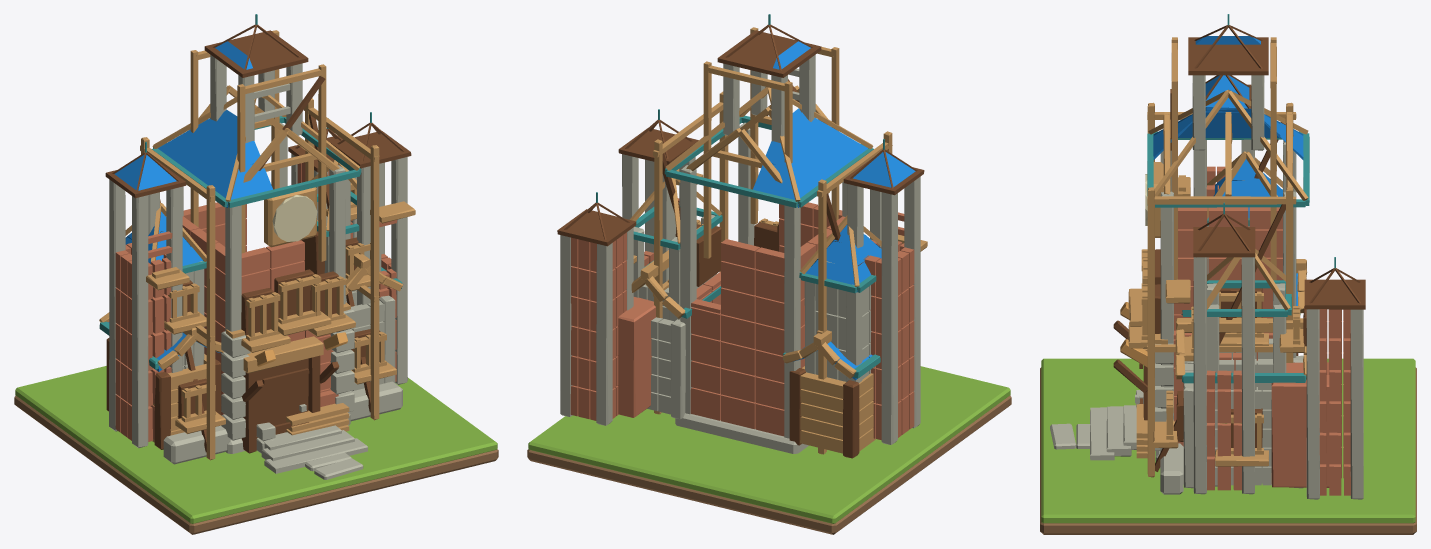
Rendered from town_hall_l12_construction_LOD1.glb.
3 renders of one model, left to right at view 1: azimuth 30°, elevation 25°; view 2: azimuth 150°, elevation 25°; view 3: azimuth 270°, elevation 25°, orthographic. The views are drawn at different scales.
Parts seen in each view (by area): view 1: town_hall_l12_construction_foundation.001, town_hall_l12_construction_grass_tile.001, town_hall_l12_construction_earth_tile.001, town_hall_l12_construction_path_stone.005; view 2: town_hall_l12_construction_foundation.001, town_hall_l12_construction_grass_tile.001, town_hall_l12_construction_earth_tile.001; view 3: town_hall_l12_construction_foundation.001, town_hall_l12_construction_grass_tile.001, town_hall_l12_construction_earth_tile.001, town_hall_l12_construction_path_stone.005.
Part boxes in pixels (x1,y1,x2,y2): town_hall_l12_construction_foundation.001: (99, 14, 415, 473); town_hall_l12_construction_grass_tile.001: (15, 366, 497, 523); town_hall_l12_construction_earth_tile.001: (14, 395, 498, 534); town_hall_l12_construction_path_stone.005: (314, 458, 363, 479); town_hall_l12_construction_foundation.001: (557, 14, 927, 458); town_hall_l12_construction_grass_tile.001: (528, 366, 1010, 523); town_hall_l12_construction_earth_tile.001: (527, 395, 1011, 534); town_hall_l12_construction_foundation.001: (1090, 14, 1365, 499); town_hall_l12_construction_grass_tile.001: (1041, 358, 1415, 523); town_hall_l12_construction_earth_tile.001: (1040, 367, 1416, 534); town_hall_l12_construction_path_stone.005: (1050, 423, 1076, 449).
Bounding box in the file's own units: 3.6 × 4.67 × 3.6.
